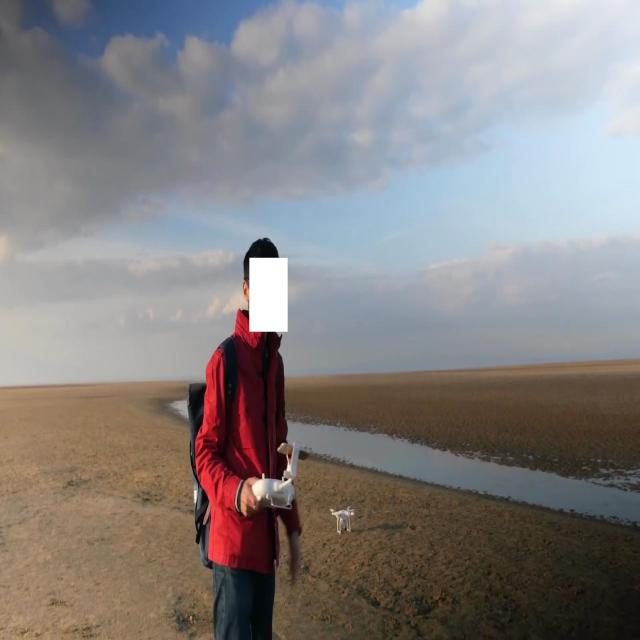drone: (328, 503, 355, 535)
